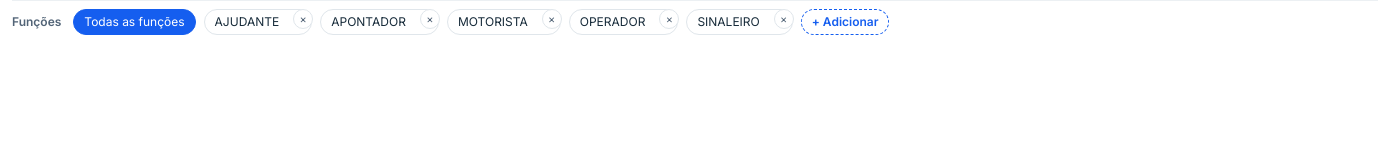
Test case: balões simples da apresentação › shows all function choices in one place and allows multiple inclusions
Click the button with aria-label "Selecionar função AJUDANTE".
click(248, 22)  # box [205, 10, 291, 34]
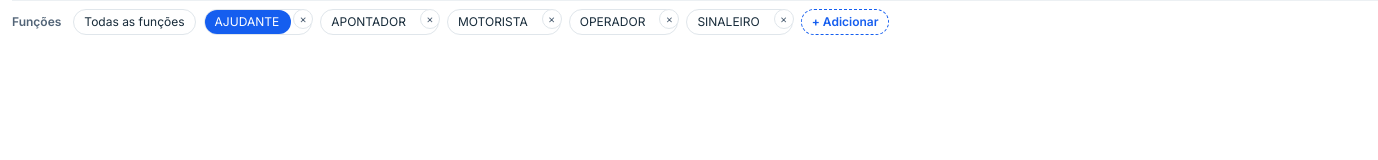
Click the button with aria-label "Selecionar função MOTORISTA".
click(494, 22)  # box [448, 10, 540, 34]
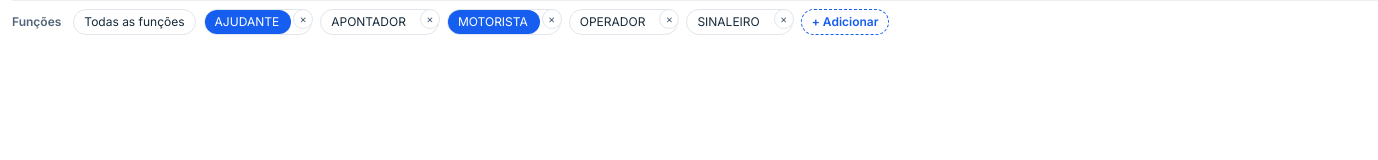
Expected: the button with aria-label "Retirar função AJUDANTE" is shown, [205, 10, 291, 34]
Expected: the button with aria-label "Retirar função MOTORISTA" is shown, [448, 10, 540, 34]
